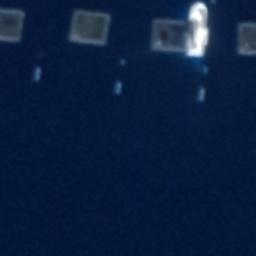square_cover: (63, 5, 116, 49), (148, 12, 197, 58), (1, 1, 31, 46), (231, 17, 256, 60)
